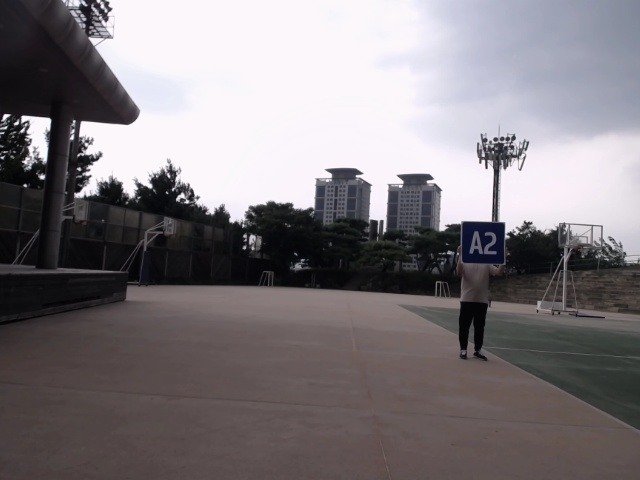delivery_a2: (461, 222, 506, 263)
